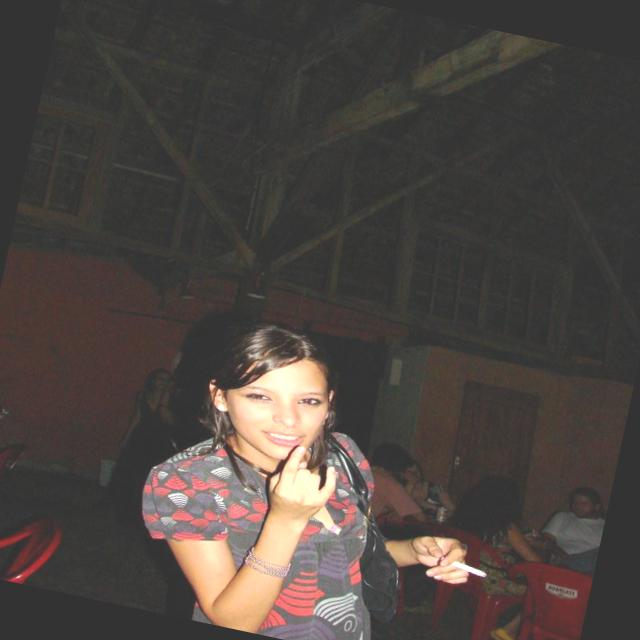cigarette: (438, 551, 492, 586)
